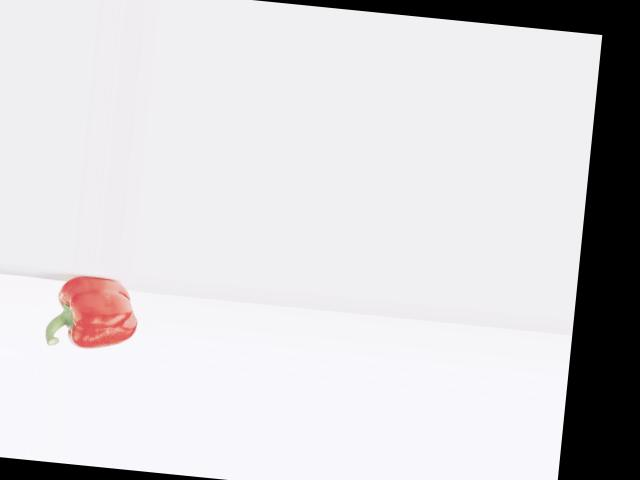bell_pepper: (35, 268, 146, 357)
